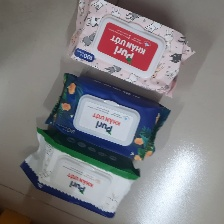Puri Trang: (15, 127, 139, 219)
Puri Xanh: (45, 71, 173, 165)
Puri hong: (65, 1, 197, 100)
